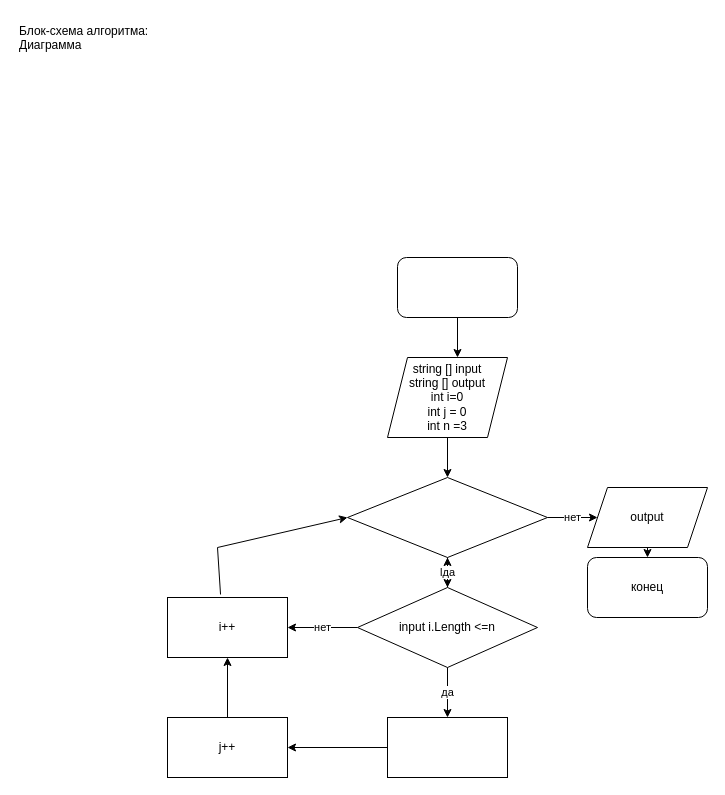
This 725x795 diagram has some shape labels left out. Each missing label, with the centre of its shape:
"i < input.Length" goes at (447,517).
"output [j] = input [i]" goes at (447,747).
"начало" goes at (457,287).
